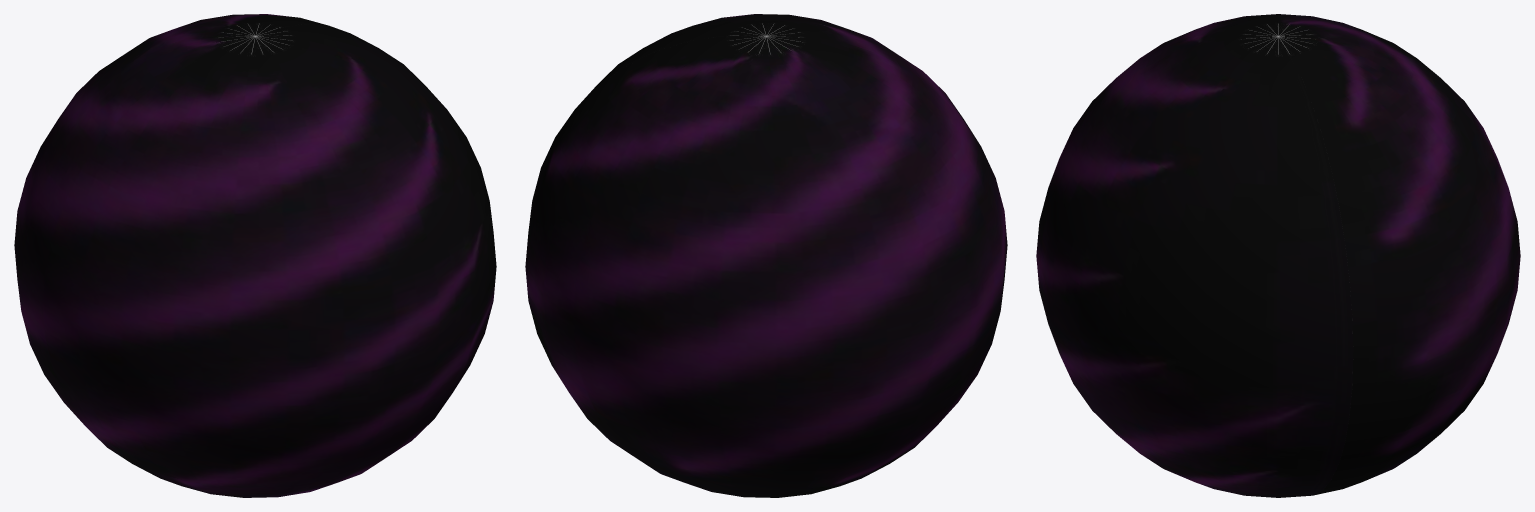
The model's file is hands.glb.
The picture shows the model from 3 angles, left to right: view 1: azimuth 30°, elevation 25°; view 2: azimuth 150°, elevation 25°; view 3: azimuth 270°, elevation 25°; orthographic projection.
Visible parts, largest first — view 1: Dome; view 2: Dome; view 3: Dome.
Boxes of the visible parts, box(x1,y1,x2,y2) form: Dome: box(14, 14, 496, 497); Dome: box(525, 14, 1007, 497); Dome: box(1036, 14, 1520, 497).
Size of the model in its own units: 9.13 by 9.13 by 9.13.
3 materials, 3 textured.
